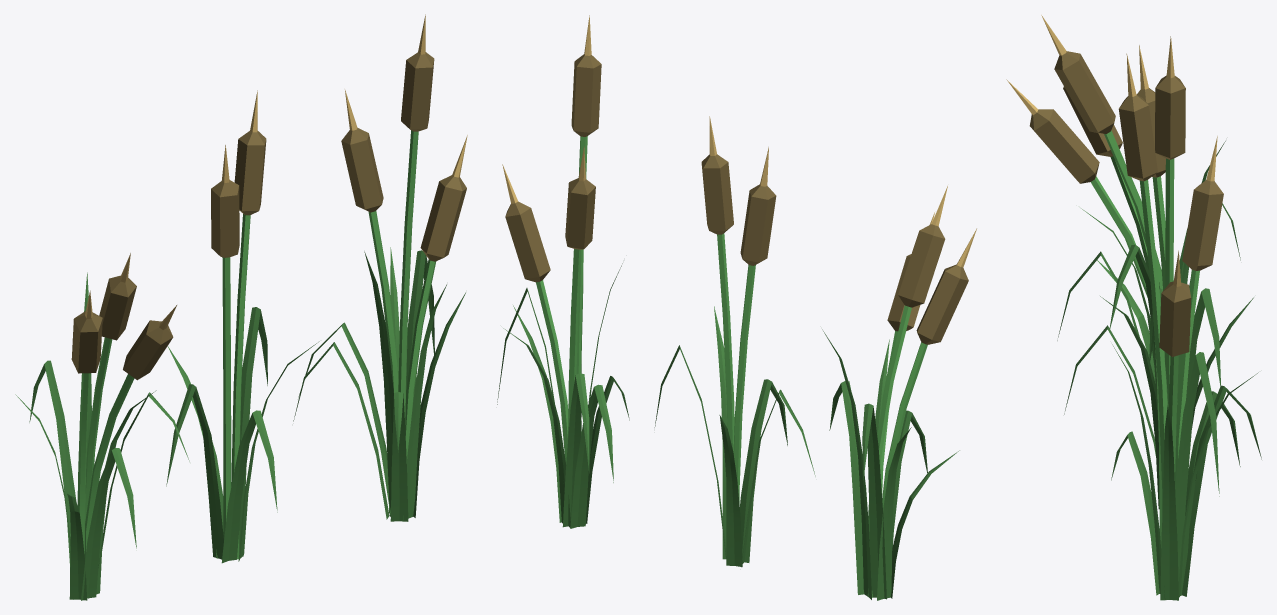
File: cattail.glb
3 renders of one model, left to right at view 1: azimuth 30°, elevation 25°; view 2: azimuth 150°, elevation 25°; view 3: azimuth 270°, elevation 25°, orthographic. The views are drawn at different scales.
Parts seen in each view (by area): view 1: Object_2; view 2: Object_2; view 3: Object_2.
Boxes of the visible parts, x1,y1,x2,y2 form: Object_2: [15, 14, 467, 600]; Object_2: [497, 15, 976, 600]; Object_2: [1006, 15, 1261, 600].
Bounding box in the file's own units: 106 × 118 × 50.51.
Materials: 1 (1 with a texture image).
